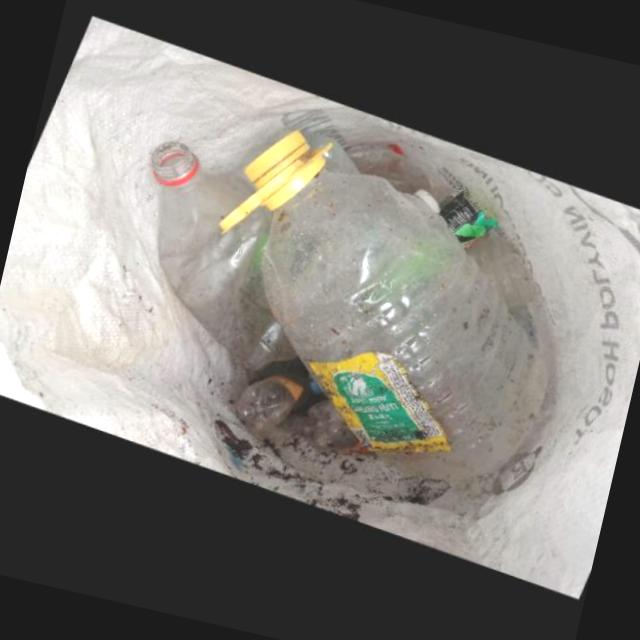chai_nhua: (212, 128, 541, 481)
chai_nhua_pet: (143, 138, 292, 370), (231, 373, 299, 429), (297, 398, 365, 452), (473, 250, 529, 306)
